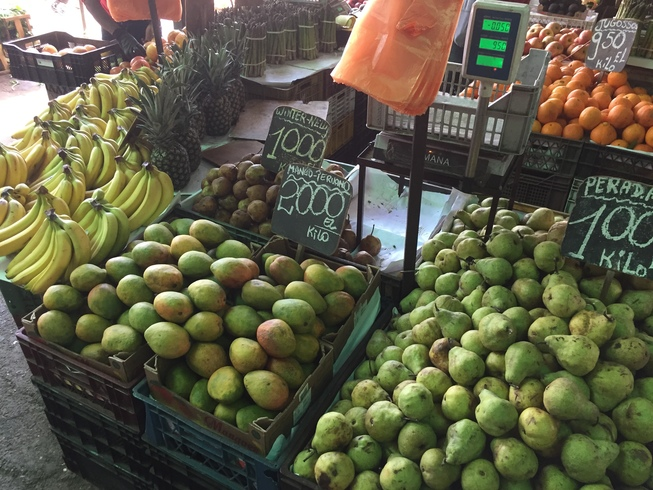precio: (574, 175, 653, 273), (273, 163, 353, 252), (269, 104, 327, 183), (589, 15, 640, 86)
